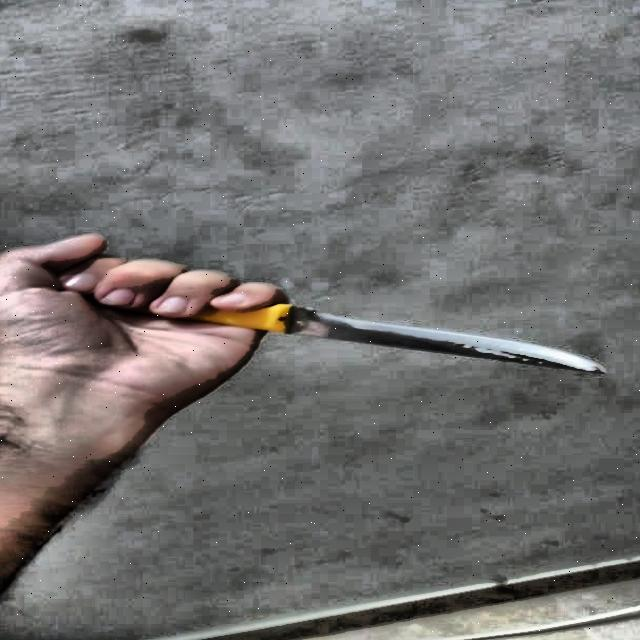knife: (143, 306, 605, 377)
